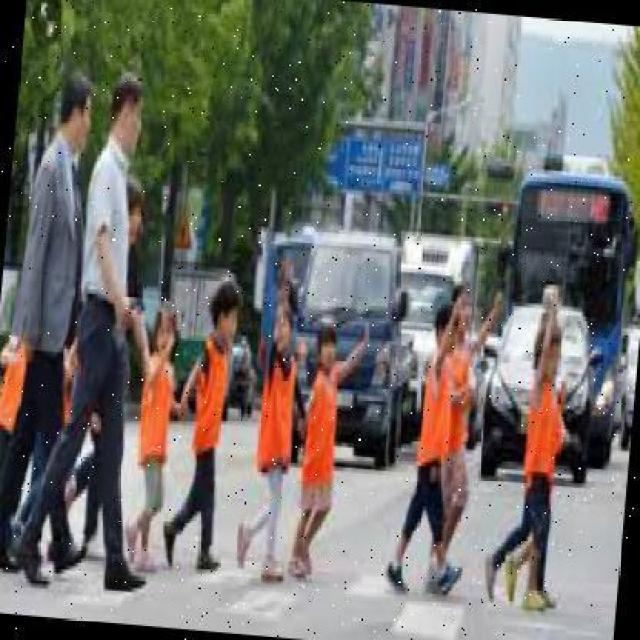Person: (9, 70, 189, 601), (0, 68, 131, 582), (481, 285, 581, 613), (386, 301, 485, 601), (233, 262, 313, 588), (162, 277, 240, 574), (288, 317, 369, 581), (123, 300, 194, 577)
